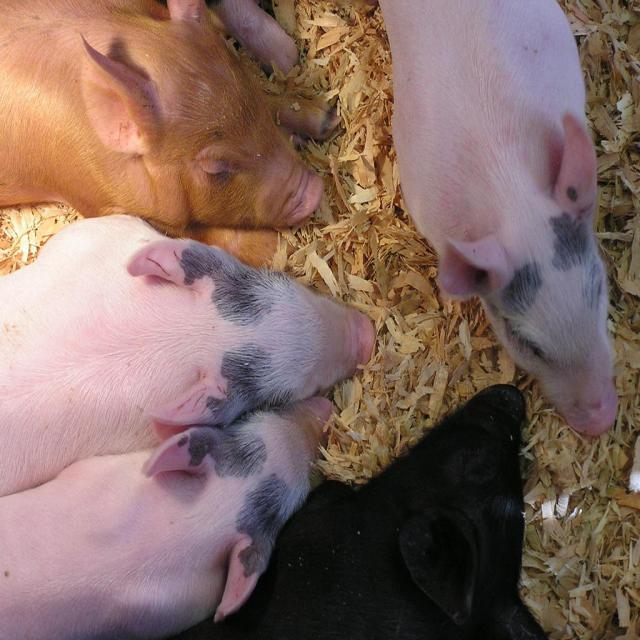Pig: (0, 0, 553, 639), (379, 0, 621, 438)
